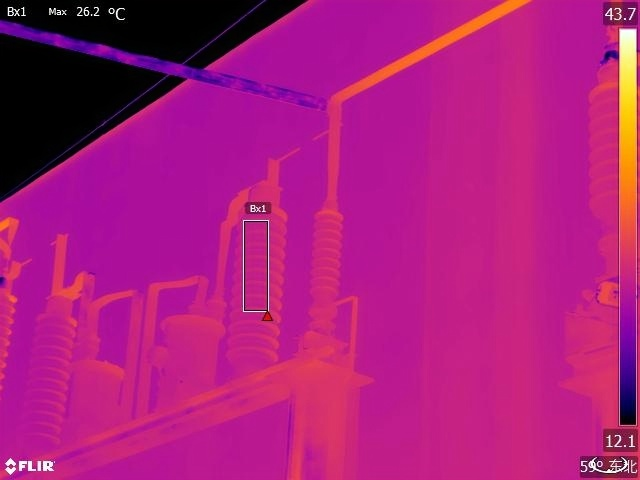post insulator: (223, 202, 292, 369), (18, 296, 78, 459), (587, 58, 640, 235), (302, 200, 351, 340)
